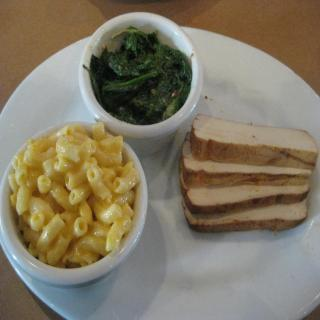Pasta: (5, 117, 146, 269)
